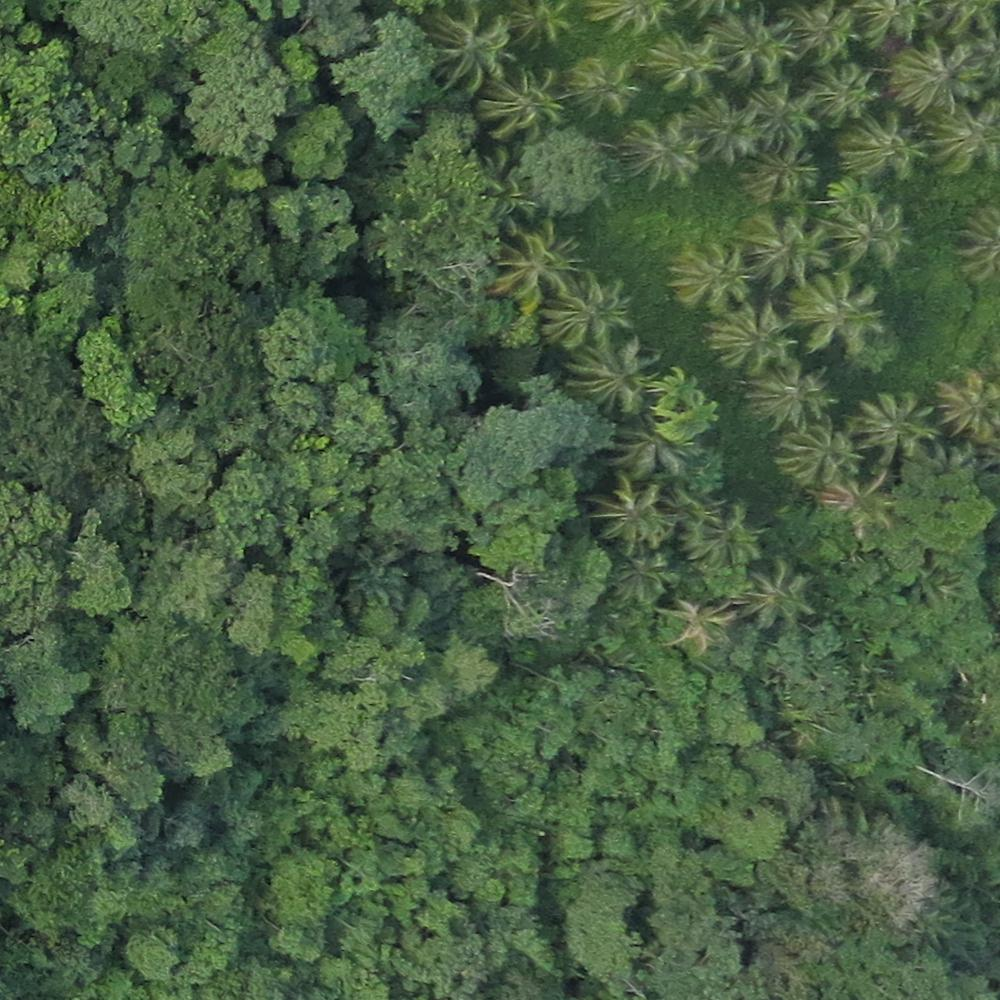Palm: (790, 276, 886, 352), (889, 40, 983, 117), (740, 213, 834, 288), (431, 4, 513, 88), (544, 271, 630, 349), (665, 236, 753, 311), (493, 231, 580, 305), (569, 340, 655, 414), (777, 419, 857, 493), (716, 302, 796, 374), (486, 66, 562, 141), (856, 390, 933, 464), (752, 363, 837, 430), (713, 10, 791, 79), (594, 476, 669, 547), (645, 24, 721, 94), (936, 364, 1000, 447), (625, 113, 698, 184), (830, 196, 904, 265), (847, 115, 921, 182), (689, 95, 758, 165), (785, 1, 854, 68), (803, 65, 875, 127), (745, 563, 814, 627), (565, 52, 635, 115), (749, 88, 815, 148)
